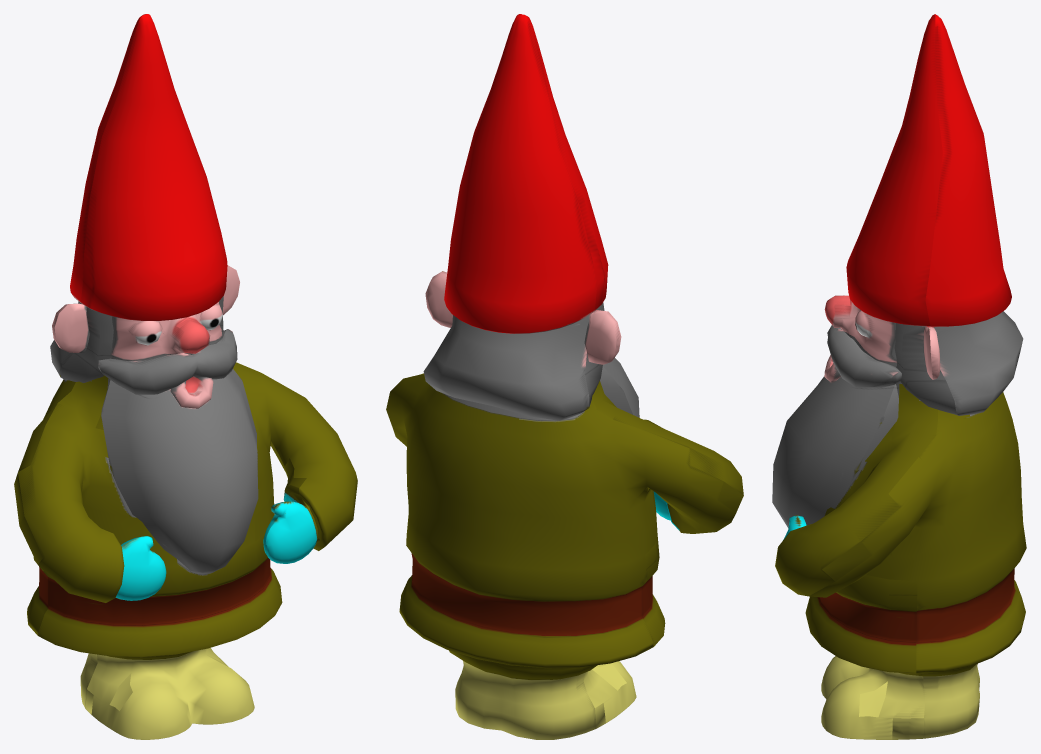
Rendered from gnome.glb.
3 renders of one model, left to right at view 1: azimuth 30°, elevation 25°; view 2: azimuth 150°, elevation 25°; view 3: azimuth 270°, elevation 25°, orthographic. The views are drawn at different scales.
Visible parts, largest first — view 1: gnome; view 2: gnome; view 3: gnome.
Boxes of the visible parts, x1,y1,x2,y2 form: gnome: (14,14,357,739); gnome: (386,14,743,739); gnome: (772,14,1026,739).
Bounding box in the file's own units: 1.02 × 2.09 × 0.6975.
Materials: 1 (1 with a texture image).
